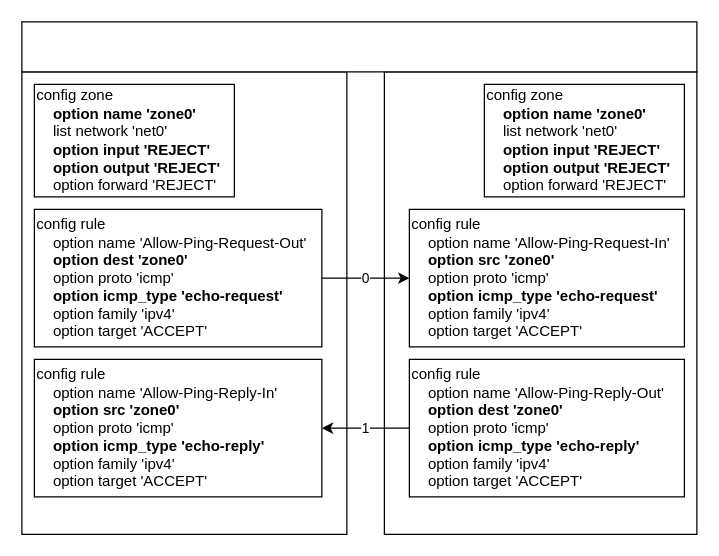
The diagram is 719 pixels wide and 556 high, and some of its shapes have lost their labels. Each missing label, with the box of its shape:
podman exec router0 ping -c3 $router1_ip: (21, 21, 697, 72)
router0 /etc/config/firewall: (21, 71, 347, 534)
router1 /etc/config/firewall: (383, 71, 697, 534)
